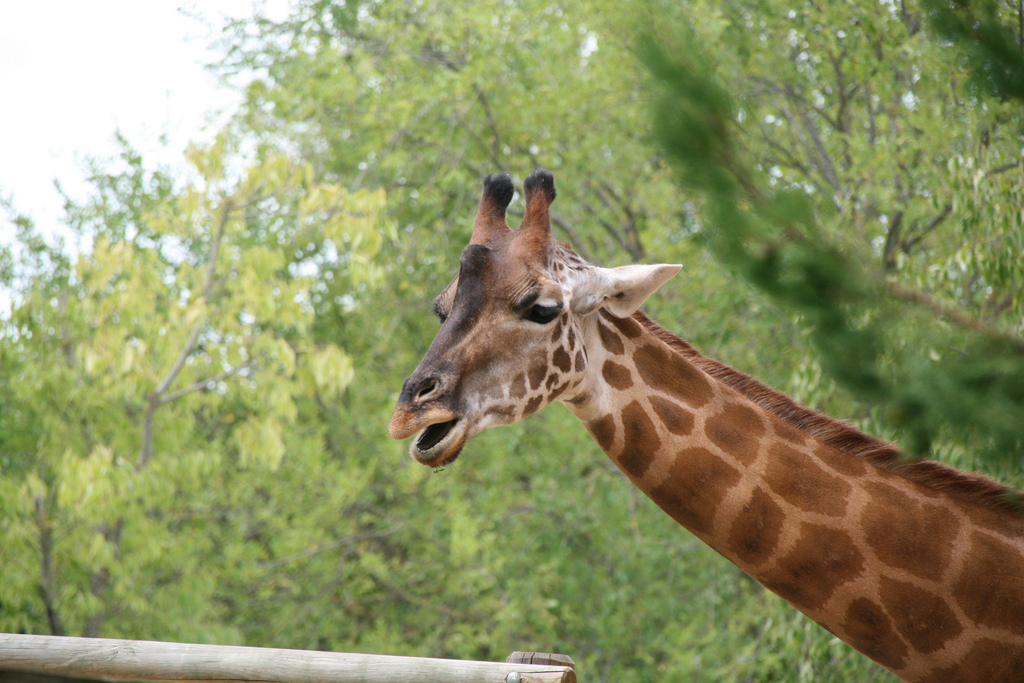giraffe: (384, 173, 999, 659)
